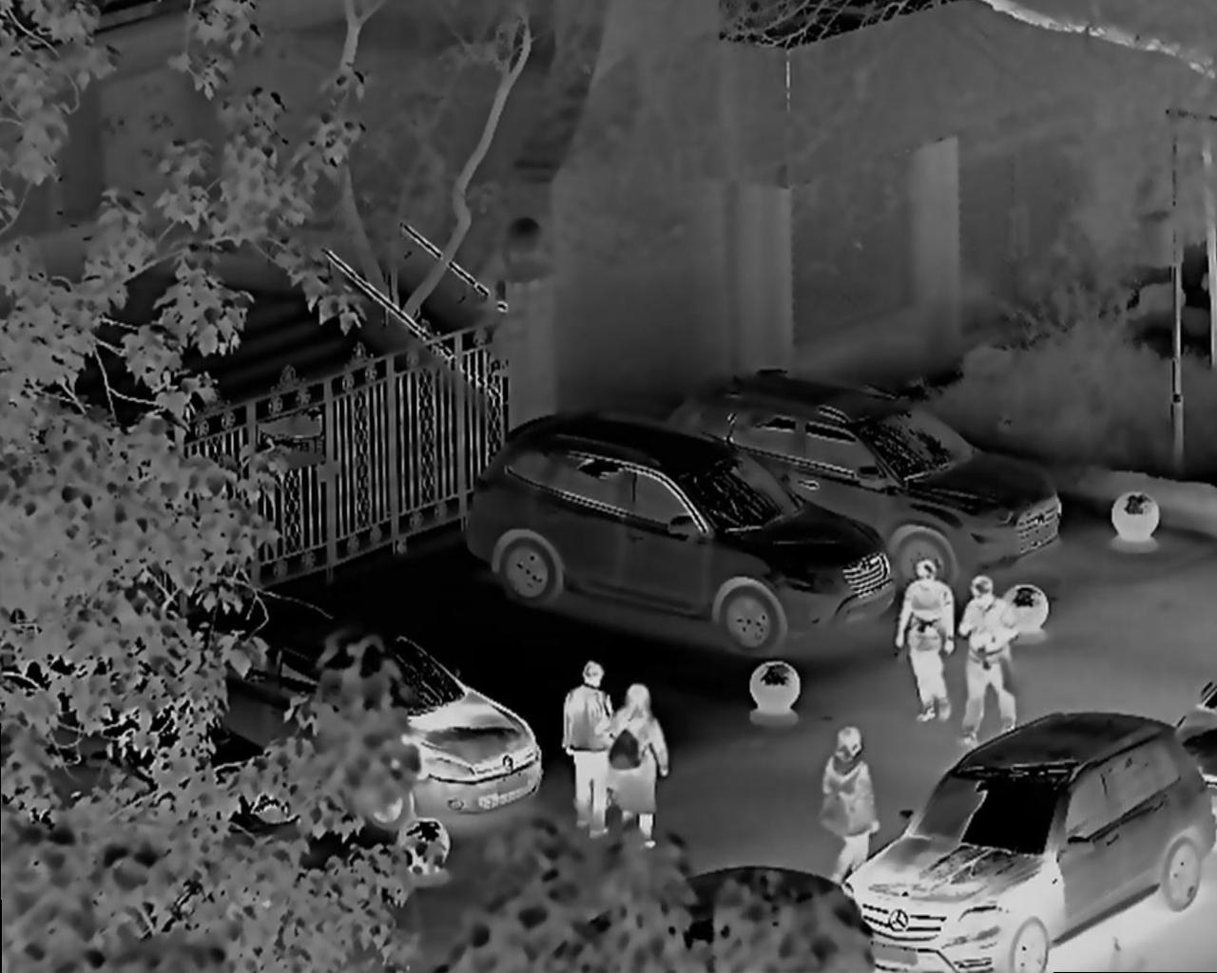person: (963, 562, 1031, 739), (820, 722, 889, 890), (903, 553, 953, 736), (559, 654, 610, 829), (615, 690, 674, 825)
